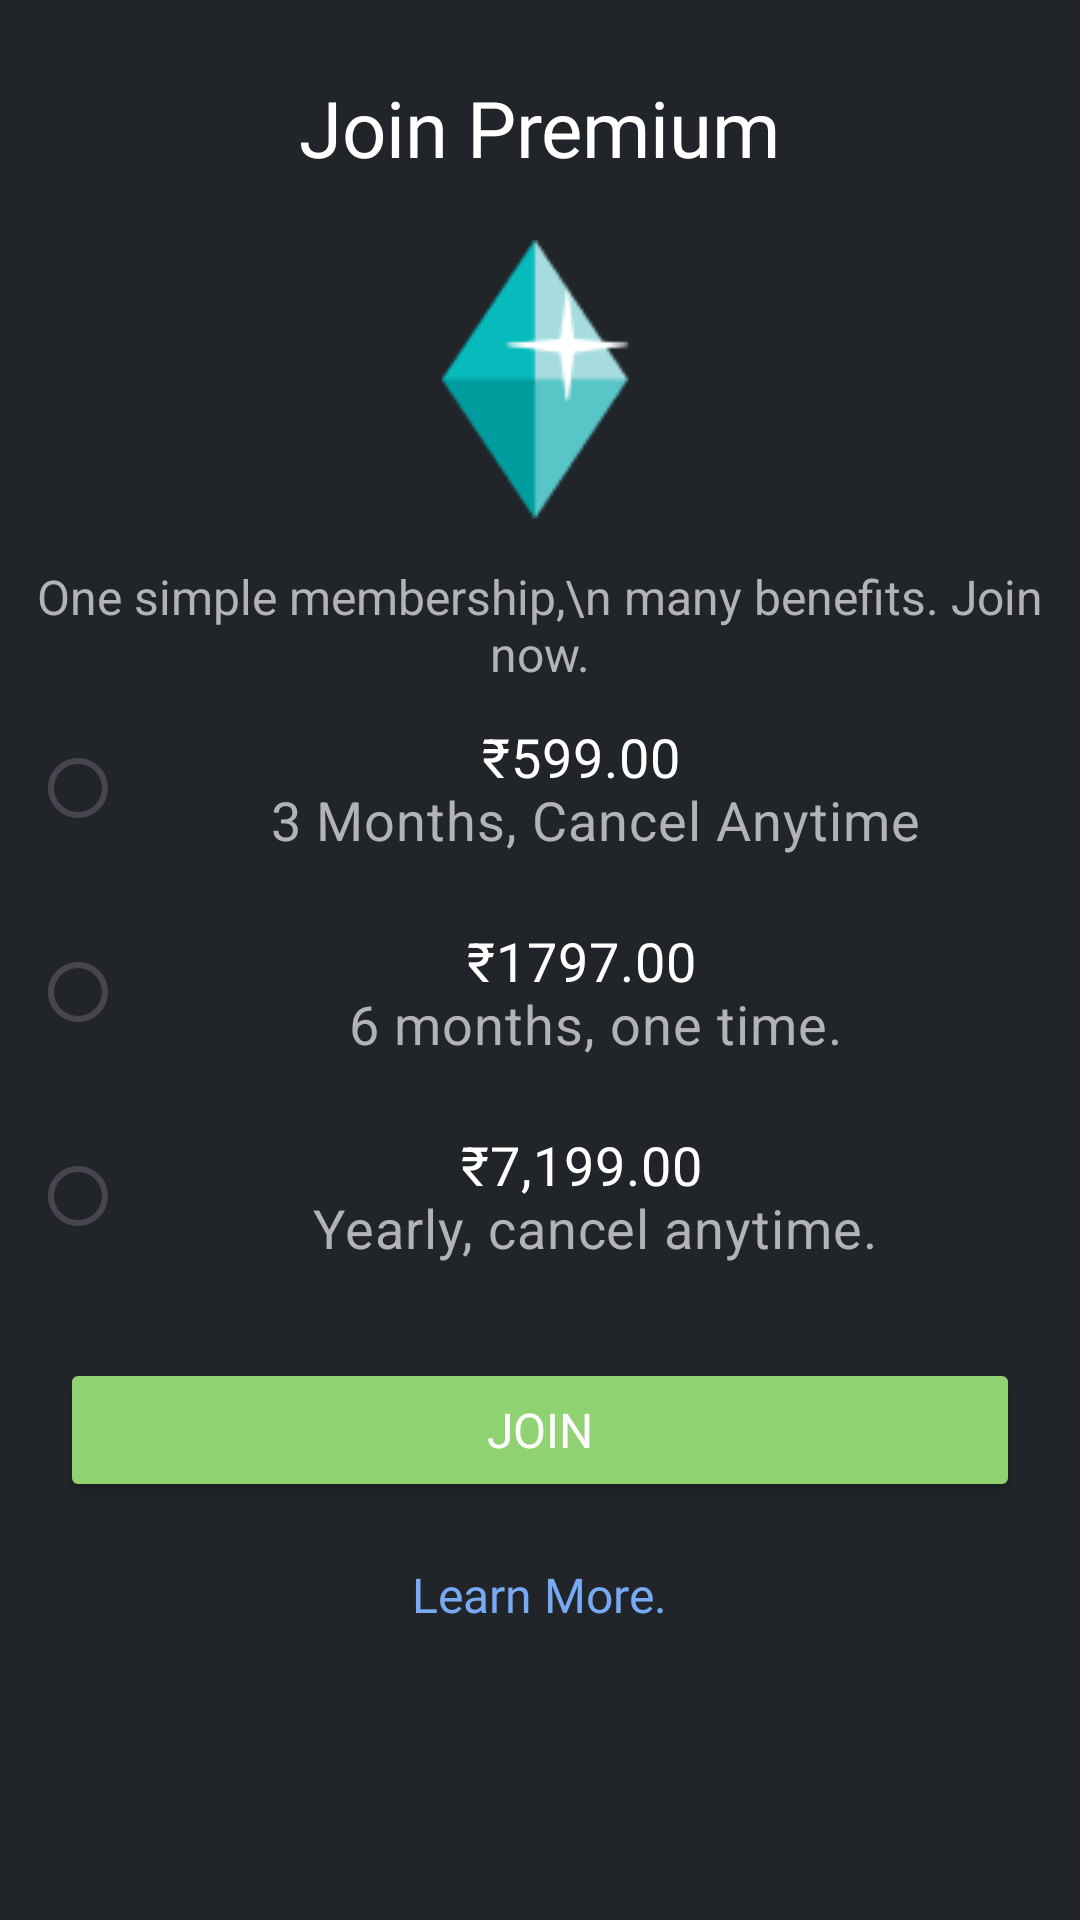

Icons on this 1080 x 1920 Android screen, each with its box as (x1, y1, x2, y2):
diamond: (442, 240, 629, 519)
